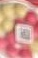2d: (18, 25, 31, 43)
